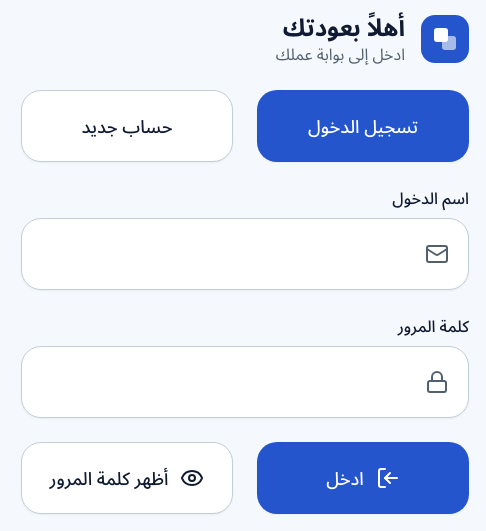
AuthForm › offers no dead-end button when the host has no way to sign up yet, and says how
Click the button "حساب جديد". click: x=127, y=126
box: 21,90 -> 233,162
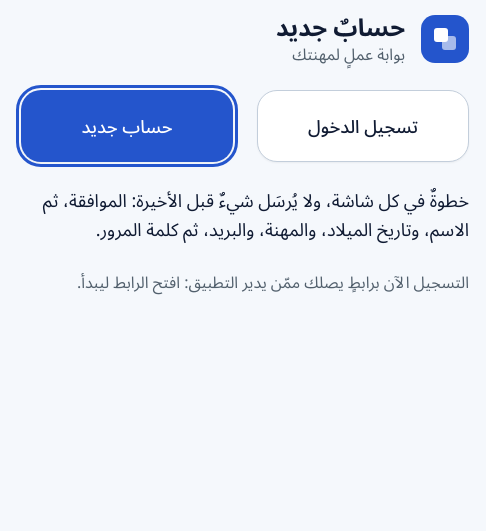
expect the text "برابطٍ يصلك" is shown: met, box 77,270 -> 469,292
